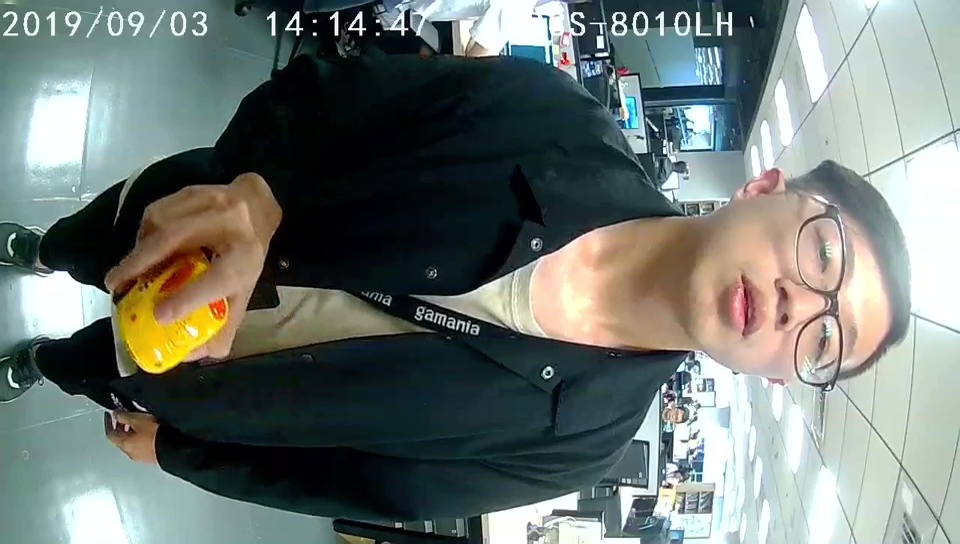car: (118, 257, 230, 376)
